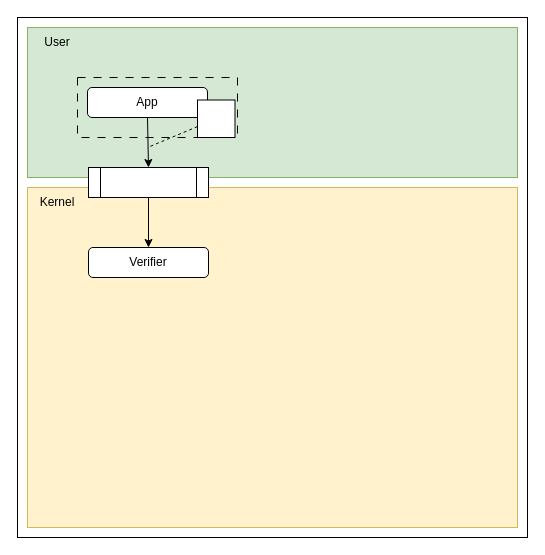
The diagram is 545 pixels wide and 555 high, and some of its shapes have lost their labels. Here are the shapes that lost their labels. From the top down, the centre of each, then its label:
the point at 215,118: eBPF
the point at 148,182: BPF System Call
